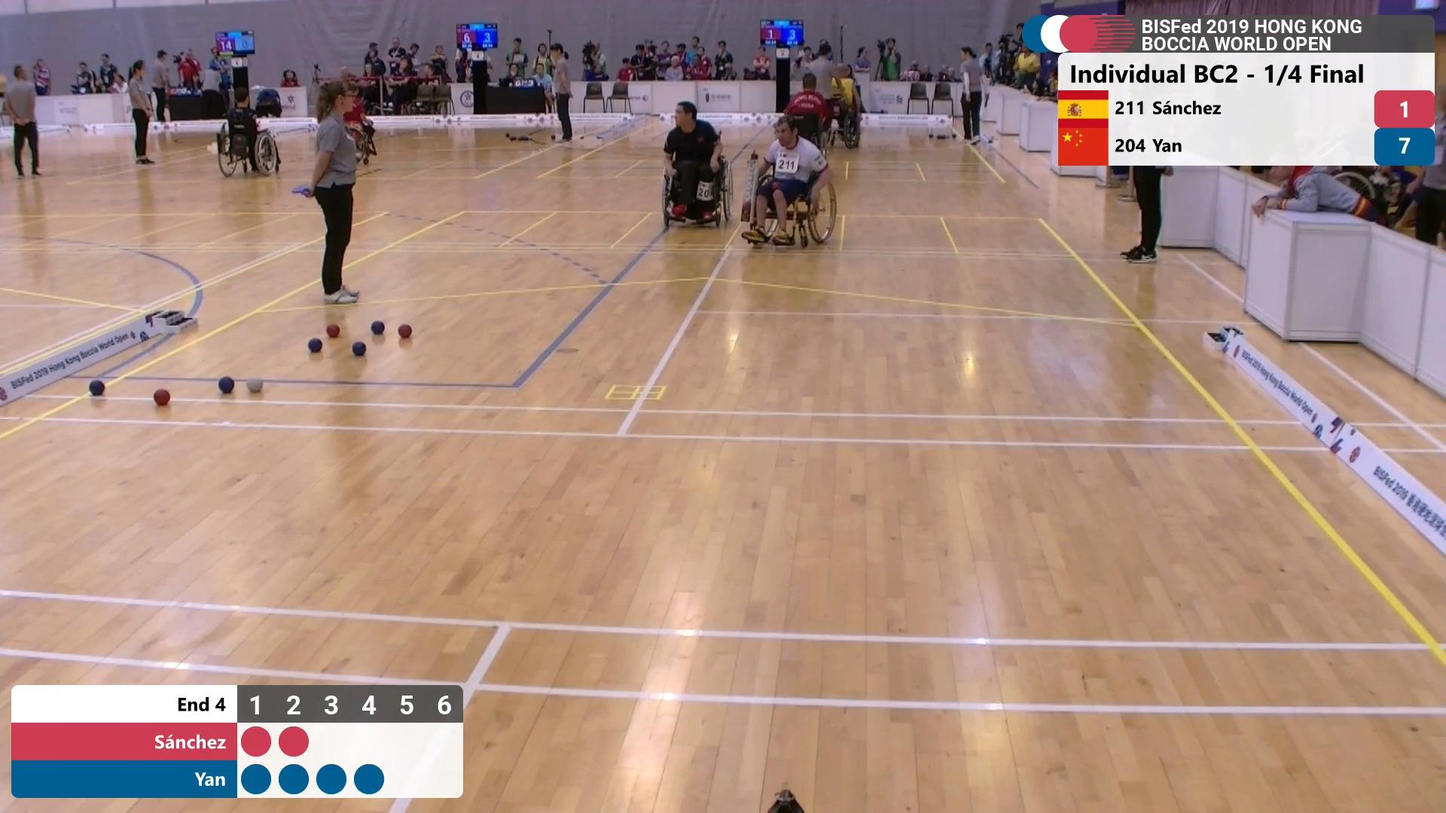blue_ball: (218, 377, 233, 394), (352, 341, 367, 356), (90, 380, 104, 394), (308, 339, 322, 353), (372, 321, 384, 334)
red_ball: (153, 390, 170, 406), (327, 324, 340, 337), (399, 325, 411, 338)
white_ball: (247, 377, 263, 393)
